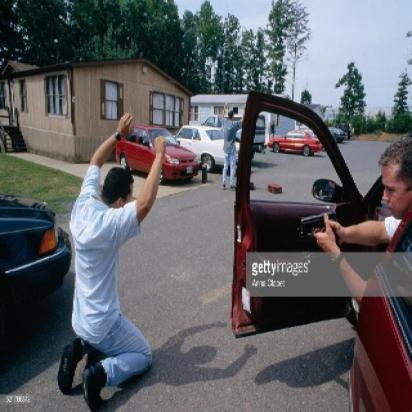Gun: (293, 206, 340, 236)
